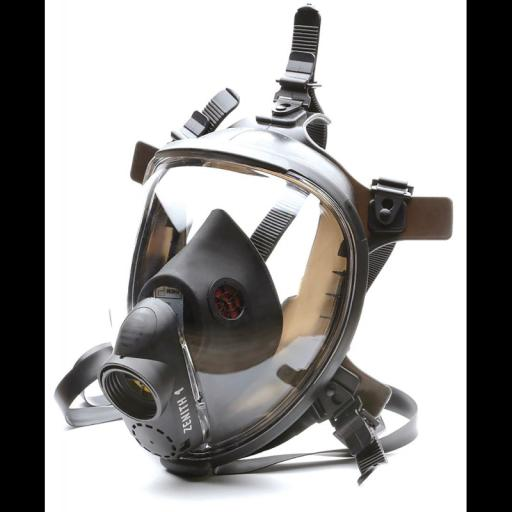mask: (58, 97, 413, 494)
